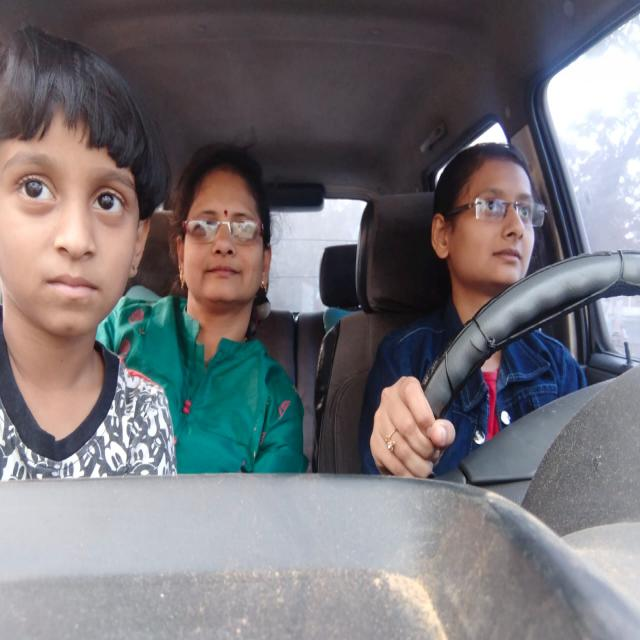person: (1, 17, 159, 348), (422, 128, 552, 325), (171, 128, 281, 340)
